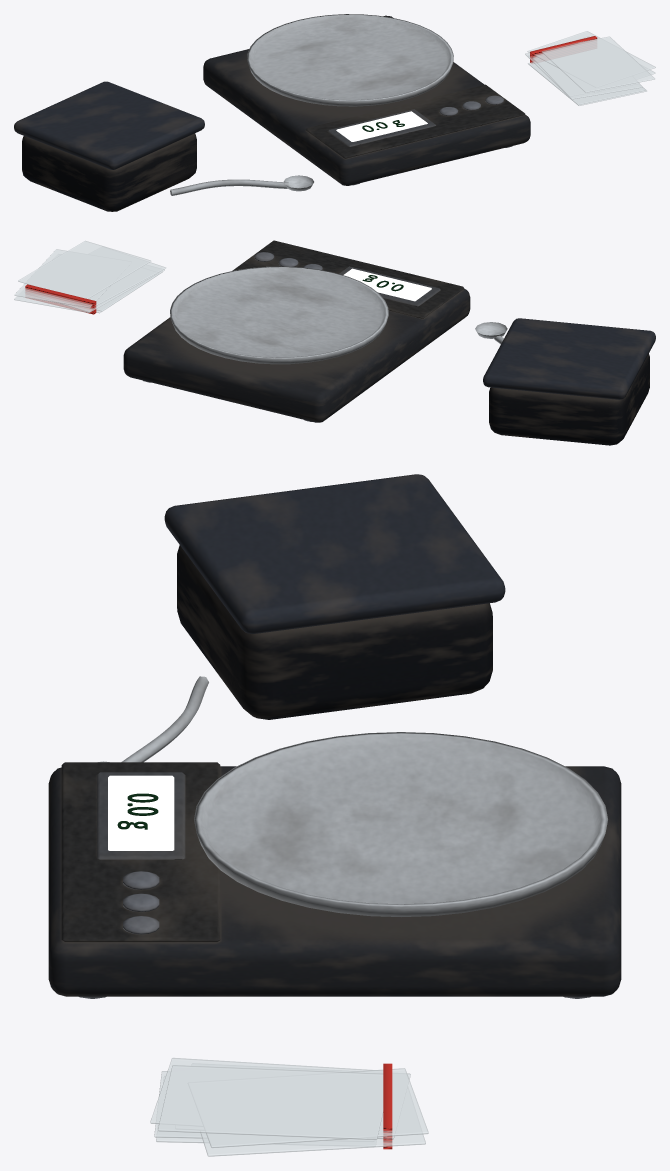
File: dom_waga.glb
The picture shows the model from 3 angles, top to bottom: view 1: azimuth 30°, elevation 25°; view 2: azimuth 150°, elevation 25°; view 3: azimuth 270°, elevation 25°; orthographic projection. The views are drawn at different scales.
Visible parts, largest first — view 1: Waga, Woreczki, Wyswietlacz; view 2: Waga, Woreczki, Wyswietlacz; view 3: Waga, Woreczki, Wyswietlacz.
Boxes of the visible parts, x1,y1,x2,y2 form: Waga: (14, 14, 530, 211); Woreczki: (525, 31, 655, 105); Wyswietlacz: (336, 111, 427, 141); Waga: (123, 240, 655, 445); Woreczki: (14, 240, 166, 314); Wyswietlacz: (343, 268, 431, 301); Waga: (48, 474, 621, 998); Woreczki: (150, 1057, 428, 1156); Wyswietlacz: (108, 775, 174, 850).
Bounding box in the file's own units: 0.618 × 0.061 × 0.26.
Materials: 5 (1 with a texture image).
